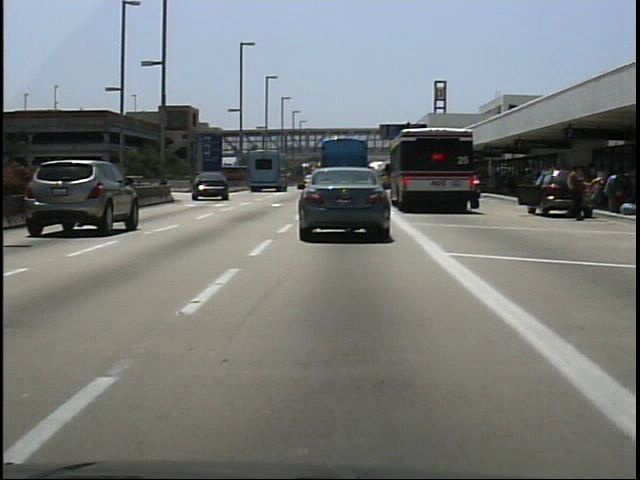person: (560, 162, 588, 224)
